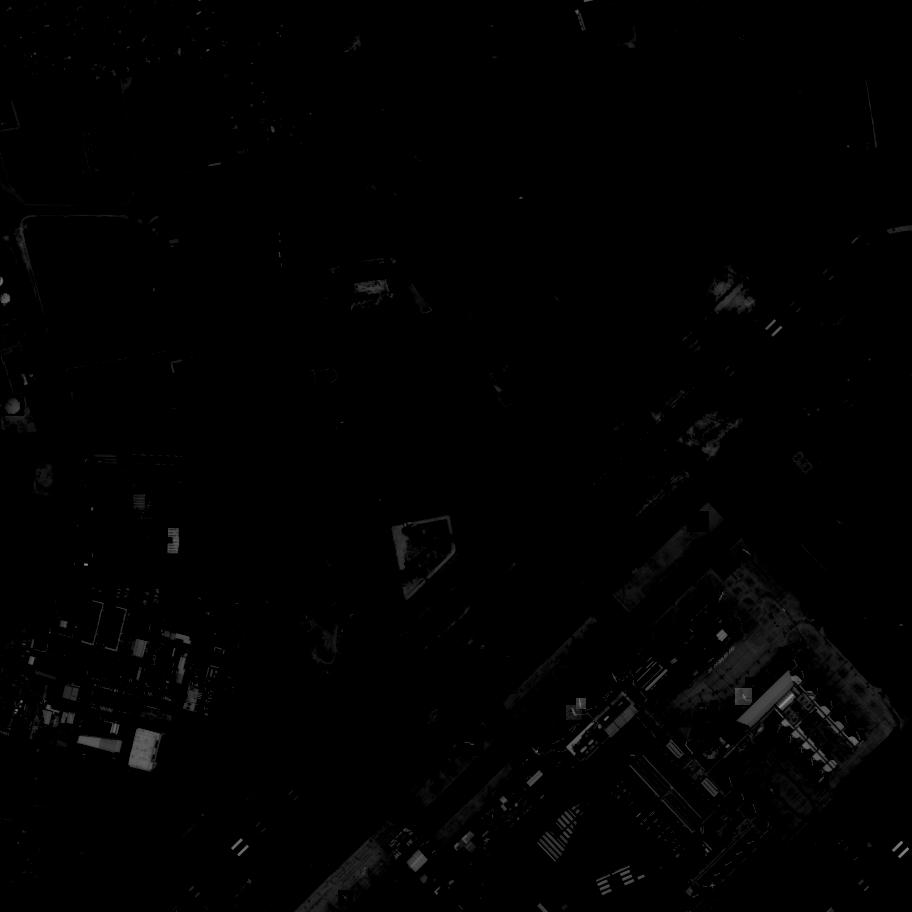plane: (463, 734, 486, 757), (653, 583, 676, 606), (688, 512, 709, 532), (529, 744, 546, 762), (736, 688, 753, 706), (566, 705, 583, 722), (746, 677, 763, 694), (738, 544, 755, 561), (716, 588, 732, 606), (813, 774, 830, 790), (606, 671, 622, 688), (573, 640, 589, 657), (338, 890, 354, 906), (810, 672, 826, 688), (766, 783, 781, 800), (765, 848, 781, 863), (862, 41, 878, 56), (647, 629, 662, 645), (779, 647, 793, 663), (765, 808, 779, 822), (680, 901, 695, 912), (708, 883, 720, 895), (560, 655, 572, 666), (682, 602, 691, 613), (577, 699, 586, 709), (673, 708, 681, 719), (698, 703, 705, 714), (361, 869, 370, 877), (711, 701, 718, 710), (547, 676, 554, 682)
storage-tank: (2, 395, 26, 417), (0, 294, 12, 307), (245, 877, 253, 886), (867, 842, 872, 847), (28, 375, 34, 379), (14, 321, 18, 326), (13, 316, 17, 319)
